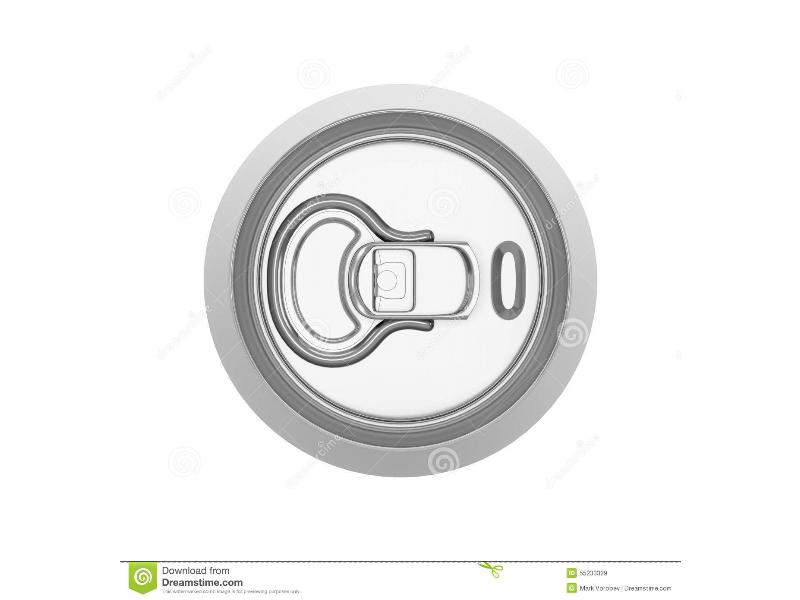can: (196, 78, 607, 486)
